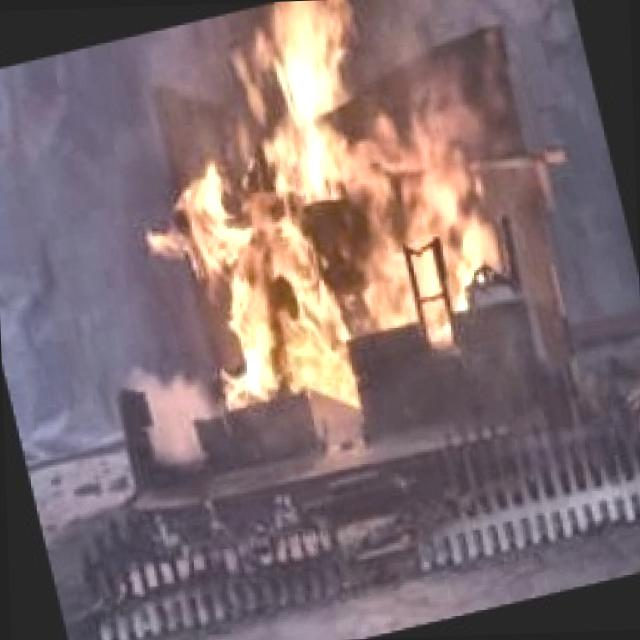fire: (98, 0, 554, 399)
